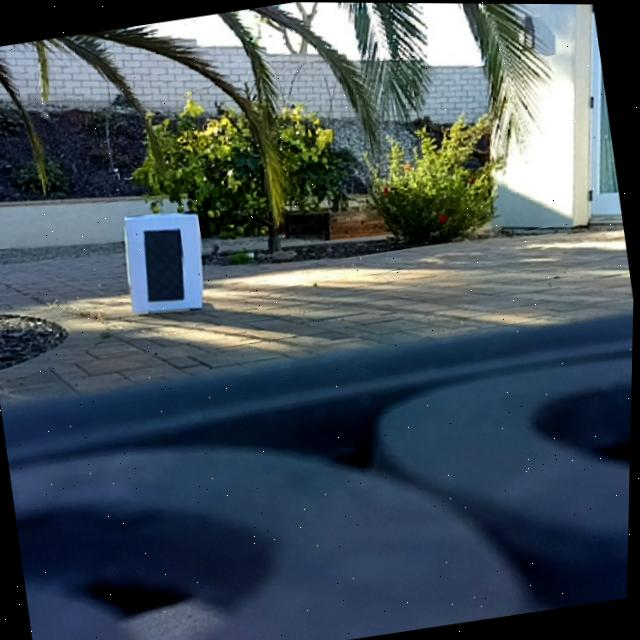led: (138, 223, 194, 308)
